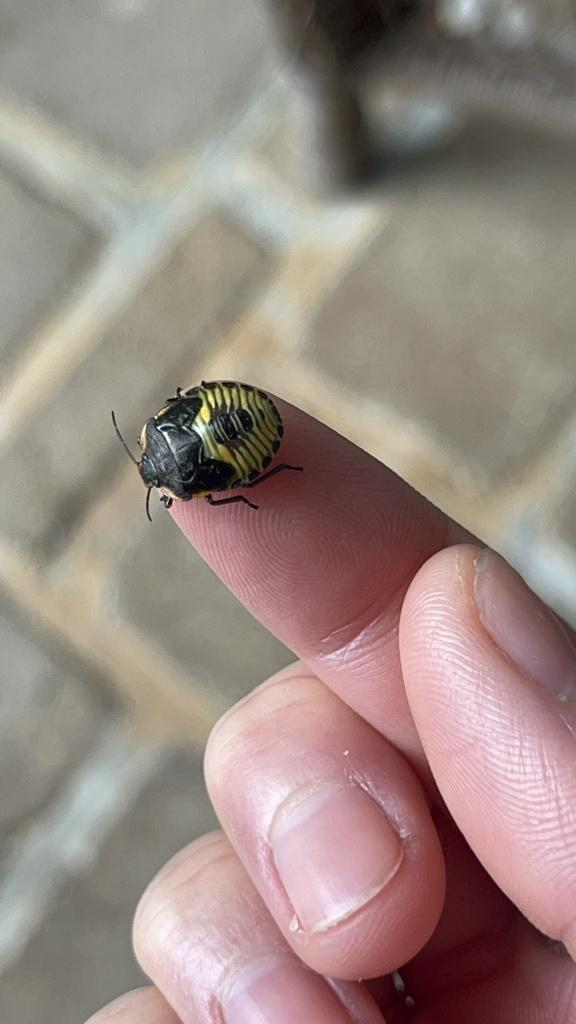stink_bugs: (70, 322, 334, 551)
